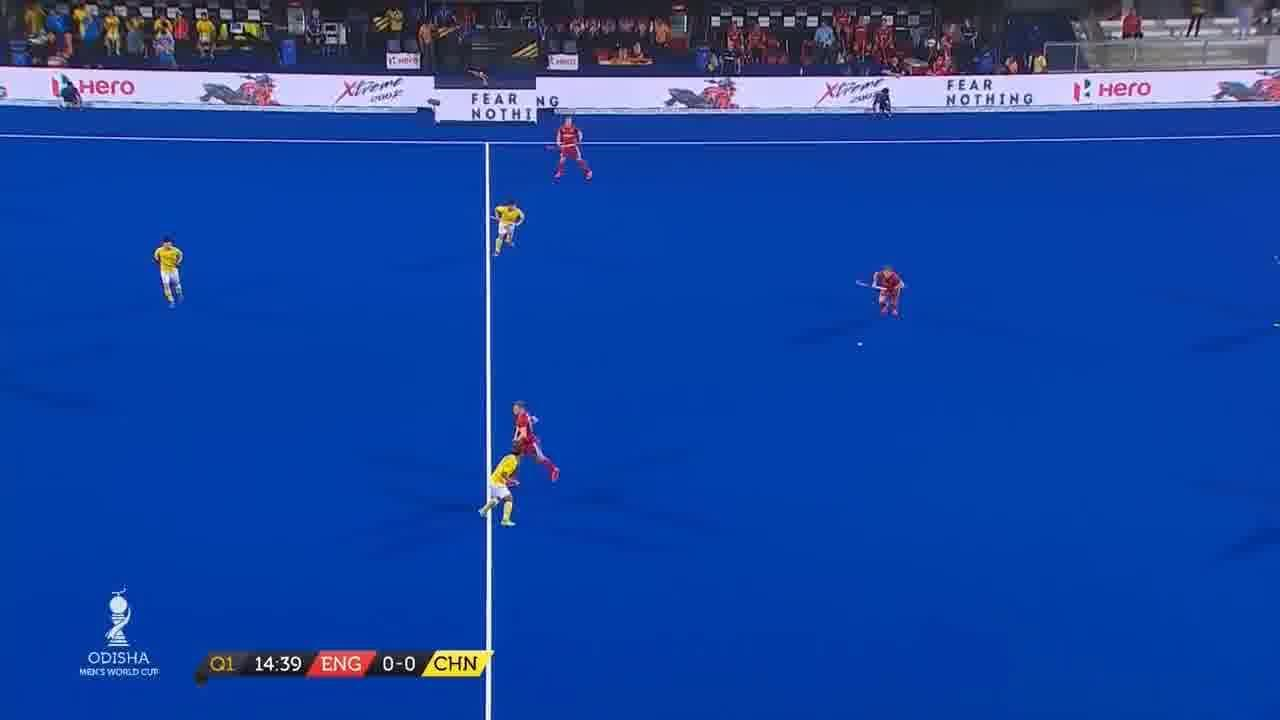ball: (859, 340, 872, 356)
